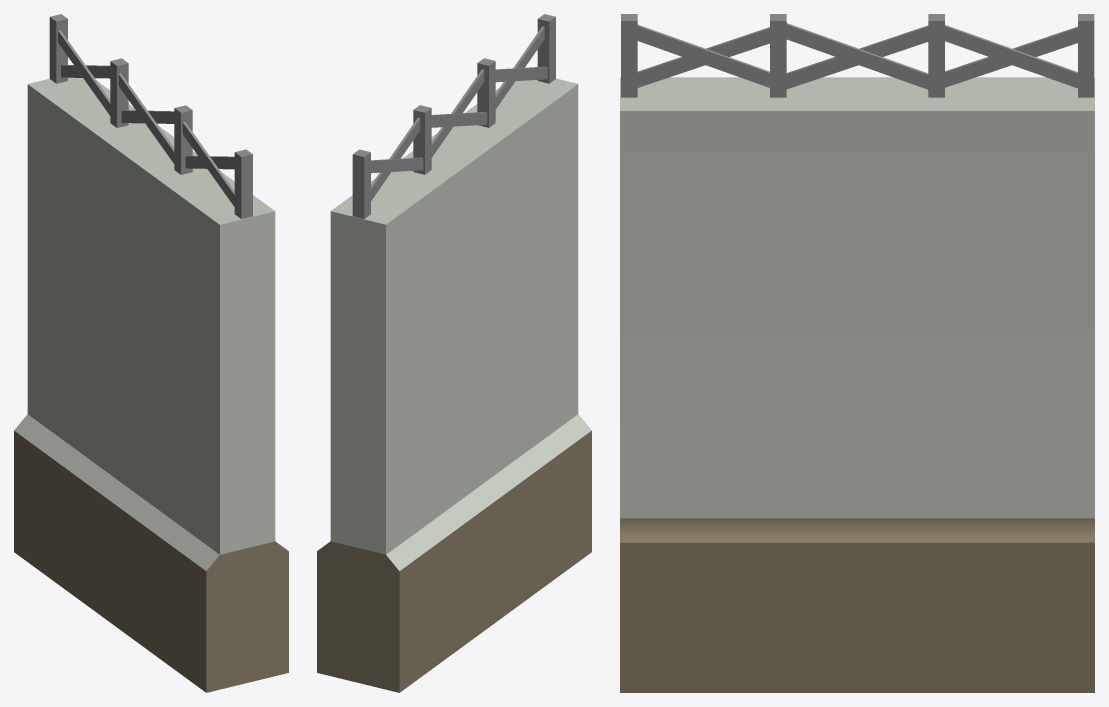
The model's file is SM_wall_perimeter_A.fbx.
3 renders of one model, left to right at view 1: azimuth 30°, elevation 25°; view 2: azimuth 150°, elevation 25°; view 3: azimuth 270°, elevation 25°, orthographic. The views are drawn at different scales.
Visible parts, largest first — view 1: pCube75; view 2: pCube75; view 3: pCube75.
Part boxes in pixels (bbox=[...]): pCube75: bbox=[14, 14, 288, 692]; pCube75: bbox=[317, 14, 591, 692]; pCube75: bbox=[620, 14, 1094, 692].
Bounding box in the file's own units: 74.29 × 453 × 300.
